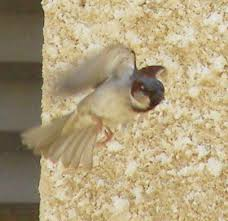hsparrow: (17, 41, 176, 183)
